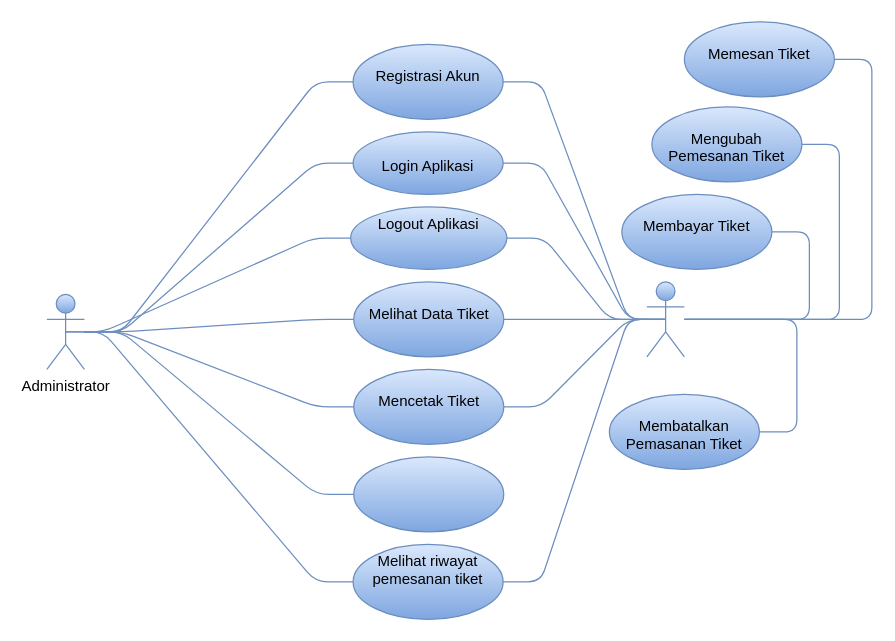
Some shapes in this 895 by 641 pixel diagram are drawn without their labels. Here are the shapes that lost their labels. From the top down, the box of each, then its label:
(646, 281, 684, 357): User
(352, 456, 504, 532): Mengatur Data Tiket
